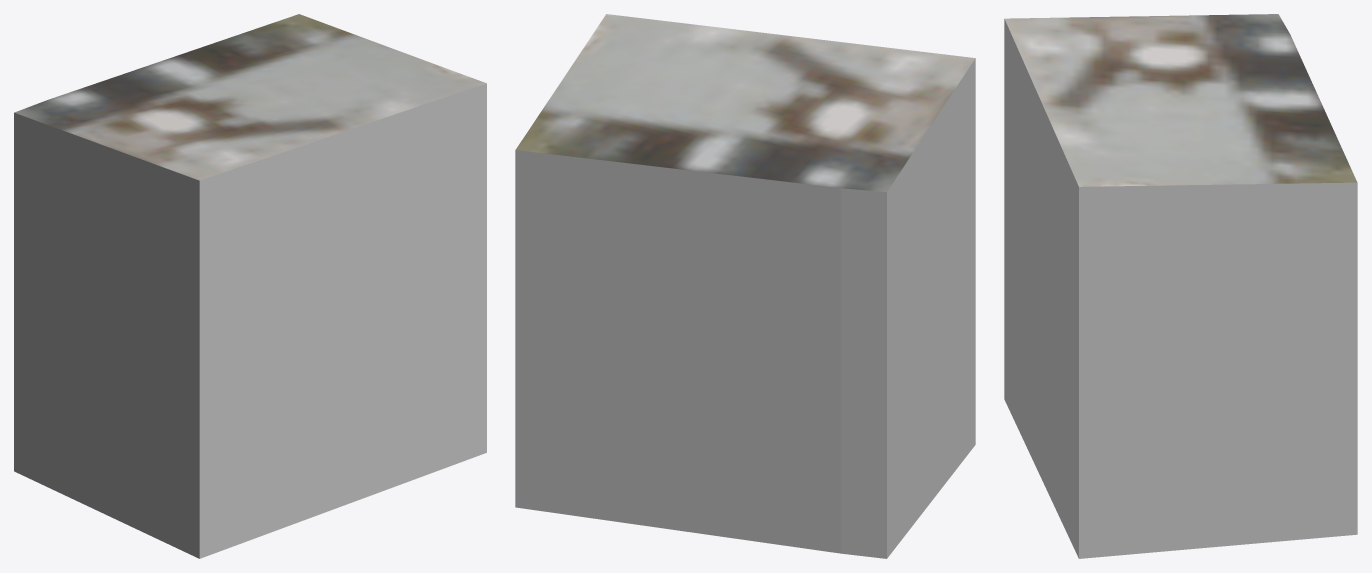
Rendered from DEBW_0010007Tx3g.gltf.
3 views of the same model, side by side, from view 1: azimuth 30°, elevation 25°; view 2: azimuth 150°, elevation 25°; view 3: azimuth 270°, elevation 25° (orthographic). The views are drawn at different scales.
Parts seen in each view (by area): view 1: Z_UP; view 2: Z_UP; view 3: Z_UP.
Part boxes in pixels (left/top/right/bottom): Z_UP: left=14, top=14, right=486, bottom=558; Z_UP: left=515, top=14, right=975, bottom=558; Z_UP: left=1004, top=14, right=1357, bottom=558.
Bounding box in the file's own units: 10.67 × 10.32 × 8.67.
Materials: 2 (1 with a texture image).
